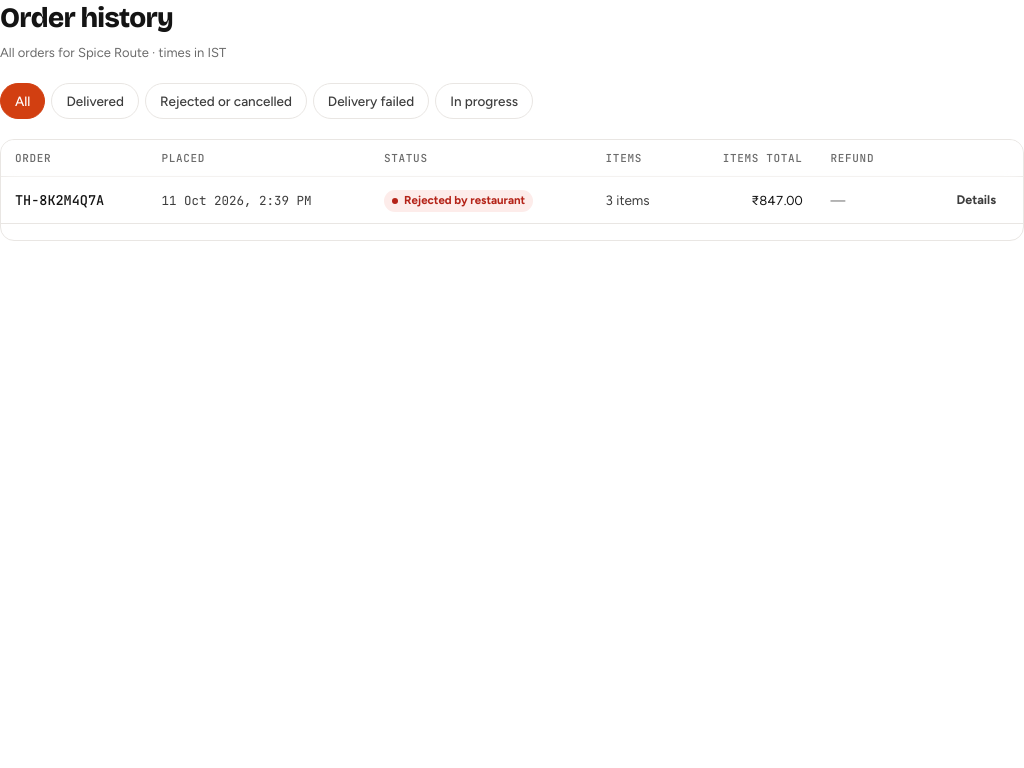
Test: OrderHistoryPage › opens order details with the rejection reason
What coordinates should you click on to do the following:
click the button with aria-label "view order TH-8K2M4Q7A"
I would click on:
 (976, 200)
Its box is [944, 185, 1009, 215].
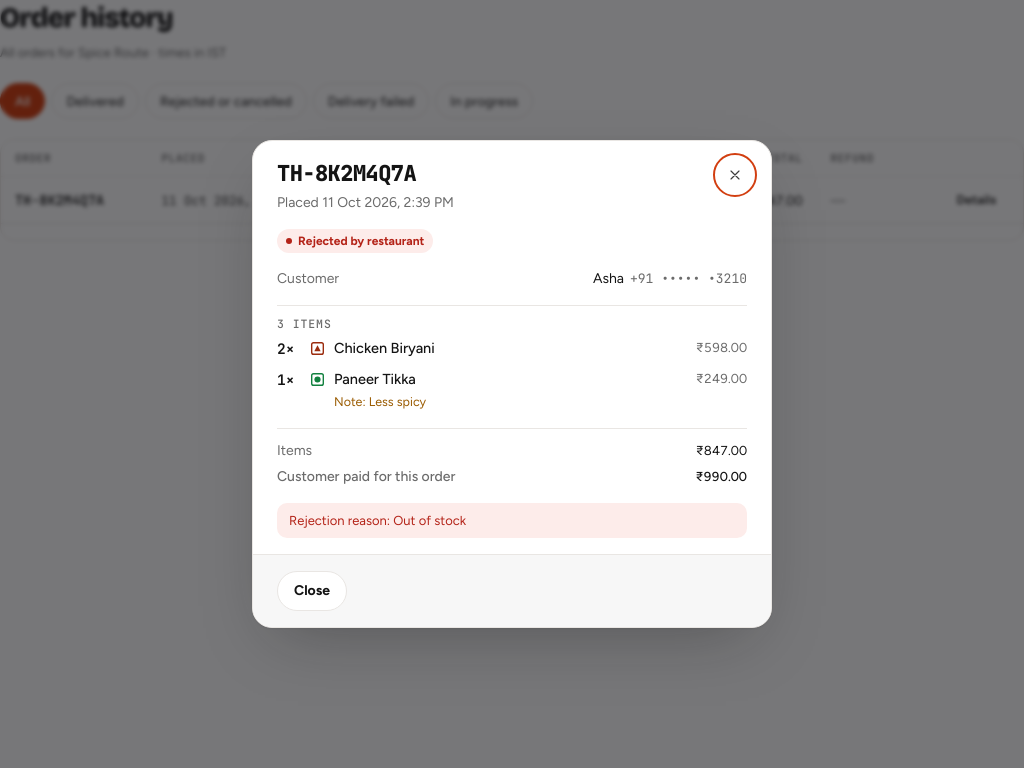
Check: the text "Rejection reason: Out of stock" is shown, box [277, 503, 747, 538]
